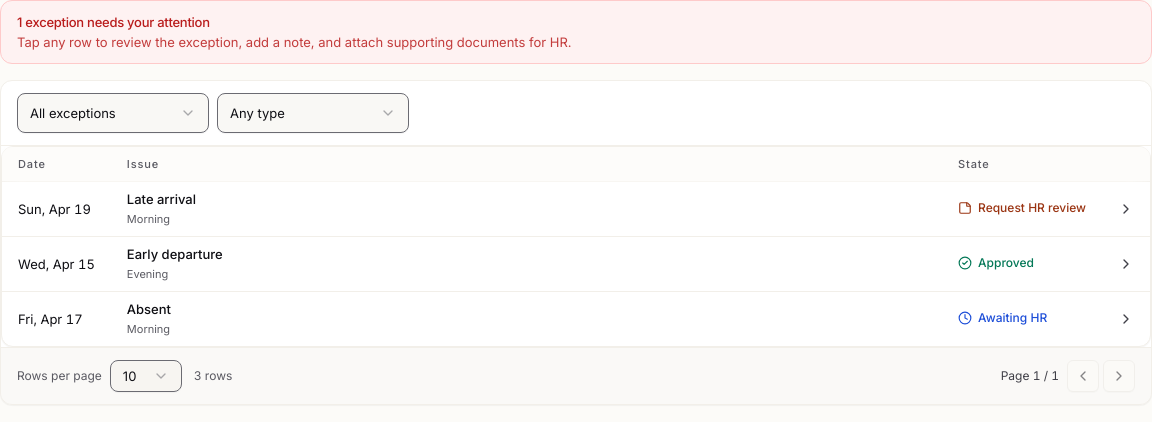
Test: ExceptionList › filters by view='Approved' down to only justified rows
Pick the "Approved" view filter via Radix Select.
Click the dropdown with test id "attendance-exceptions-view".
click(113, 113)  # box [17,93,209,133]
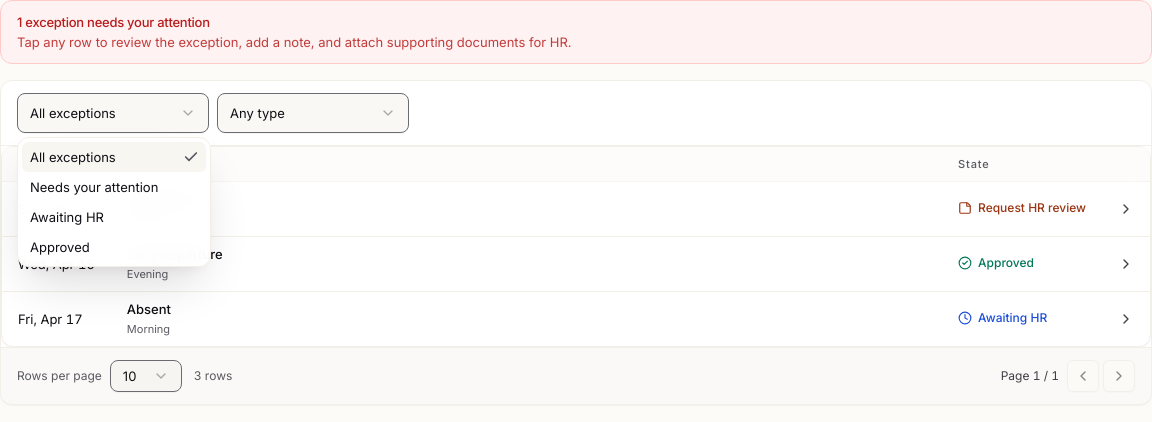
Click the option "Approved".
click(60, 247)  # box [30,239,90,255]
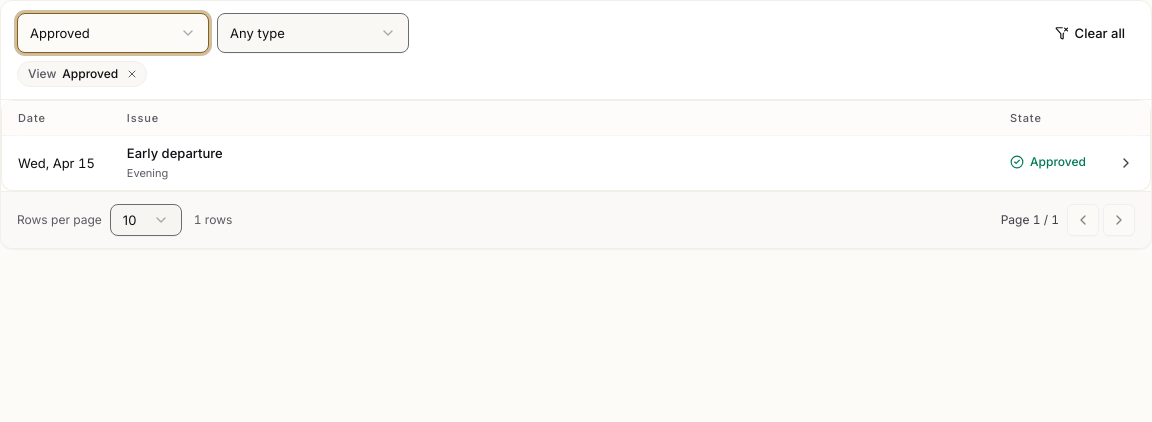
Expected: no buttons "Sun, Apr 19" are shown
Expected: no buttons "Fri, Apr 17" are shown
Expected: the element with test id "attendance-exceptions-chip-view" shows "Approved", [62,66,118,81]
